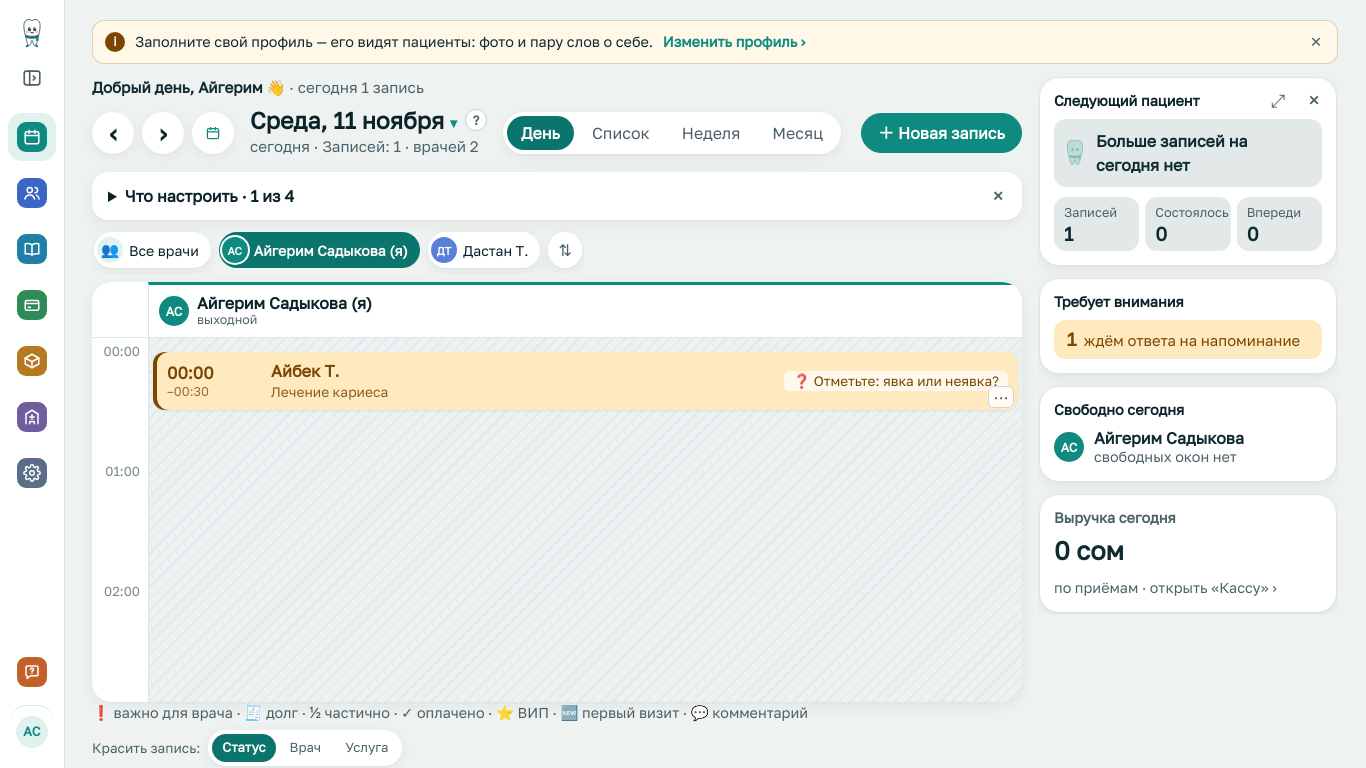
Scenario: «Приём состоялся» → «Что сделали сегодня?»: предвыбор по услуге и зубу приёма, отметка одним запросом
Step 1. Click the button "Айбек Т." → click(190, 373), box [153, 352, 1018, 410]
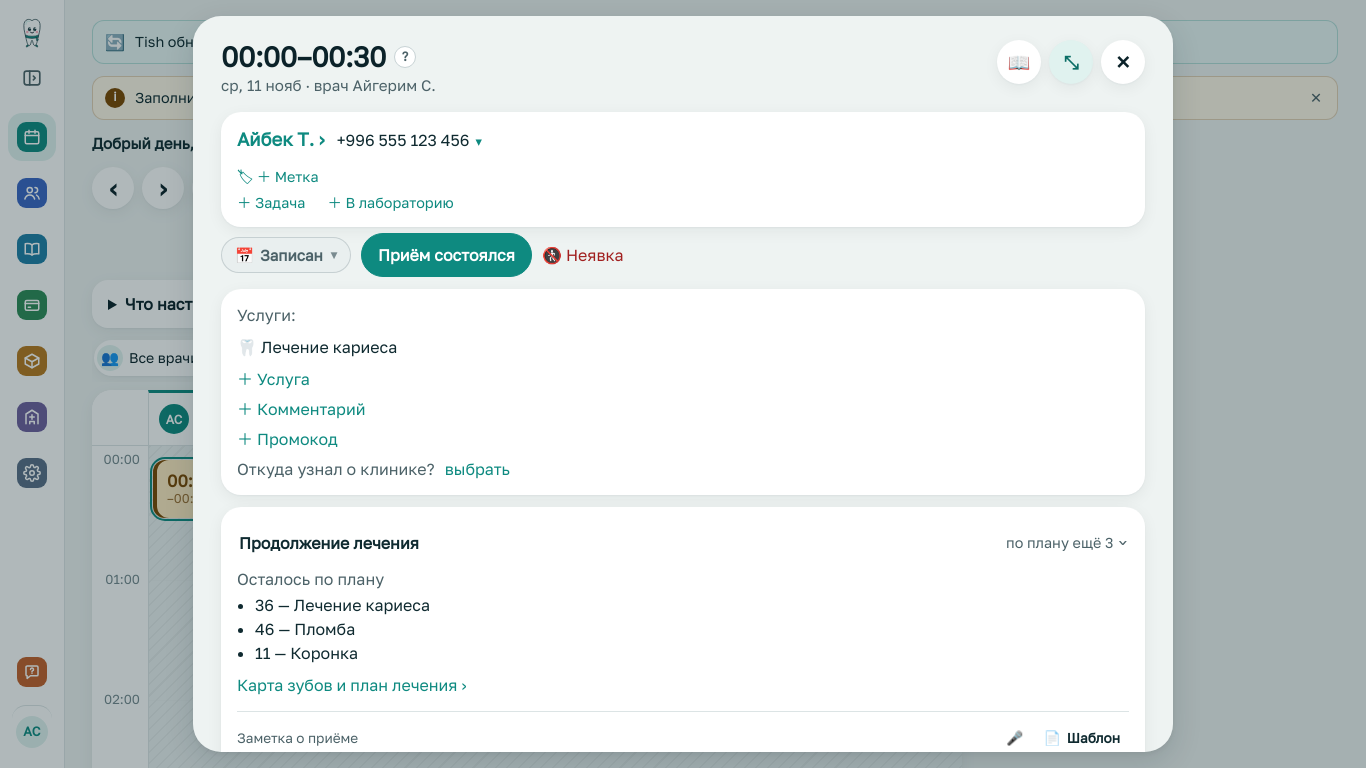
Check: the element "Что сделали сегодня?" is not shown
Step 2. Click the button "Приём состоялся" → click(446, 255), box [361, 233, 532, 277]
(page scrolled)
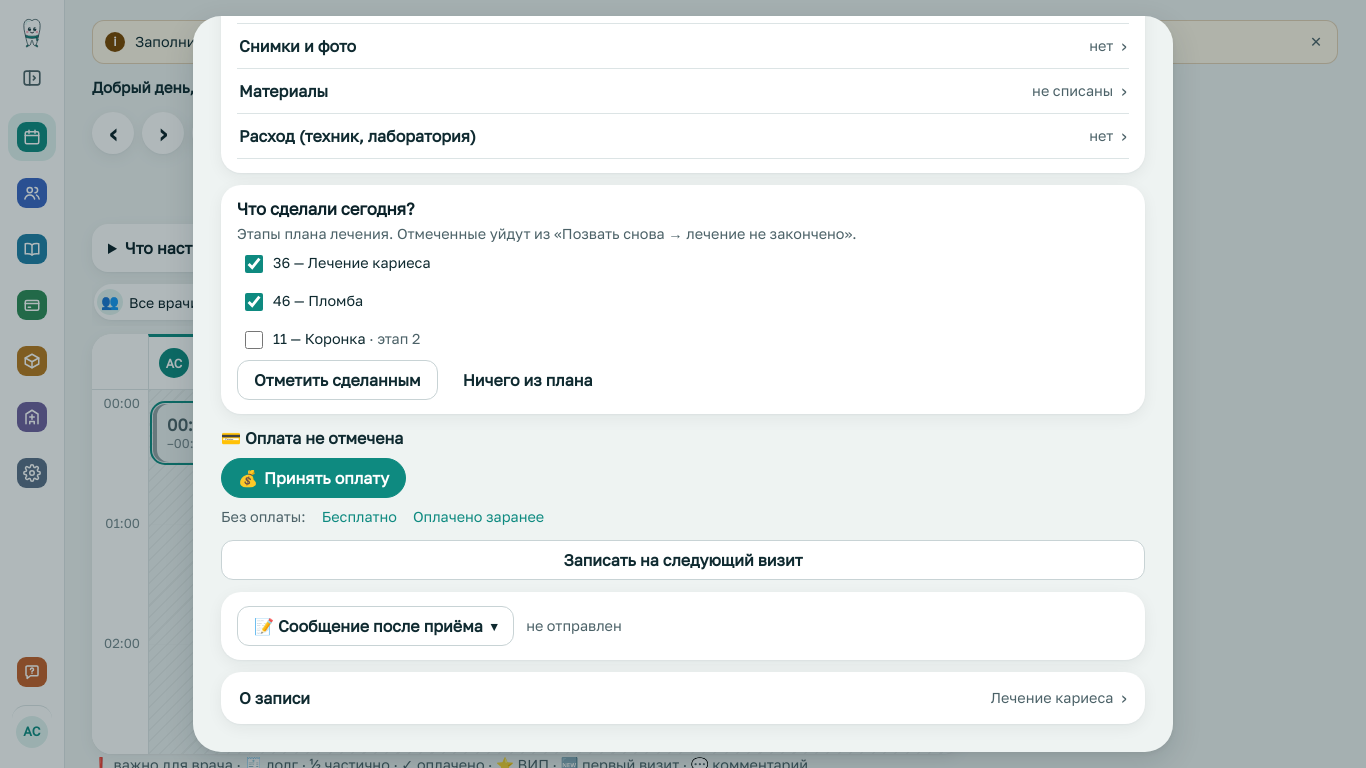
Check: the checkbox labelled "36 — Лечение кариеса" is checked, box [245, 256, 263, 274]
Check: the checkbox labelled "46 — Пломба" is checked, box [245, 294, 263, 312]
Check: the checkbox labelled "11 — Коронка · этап 2" is not checked
Step 3. Click the checkbox labelled "11 — Коронка · этап 2" → click(254, 340), box [245, 332, 263, 350]
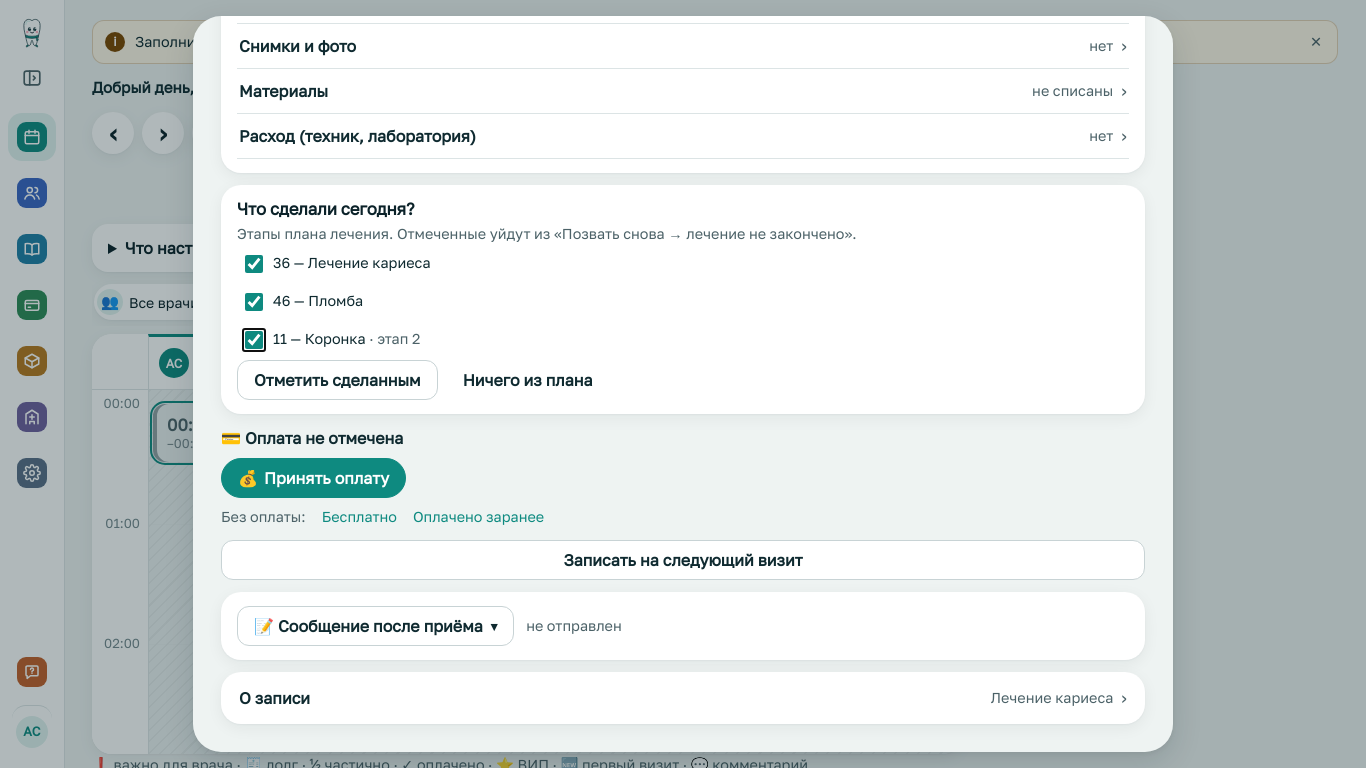
Step 4. Click the checkbox labelled "36 — Лечение кариеса" → click(254, 264), box [245, 256, 263, 274]
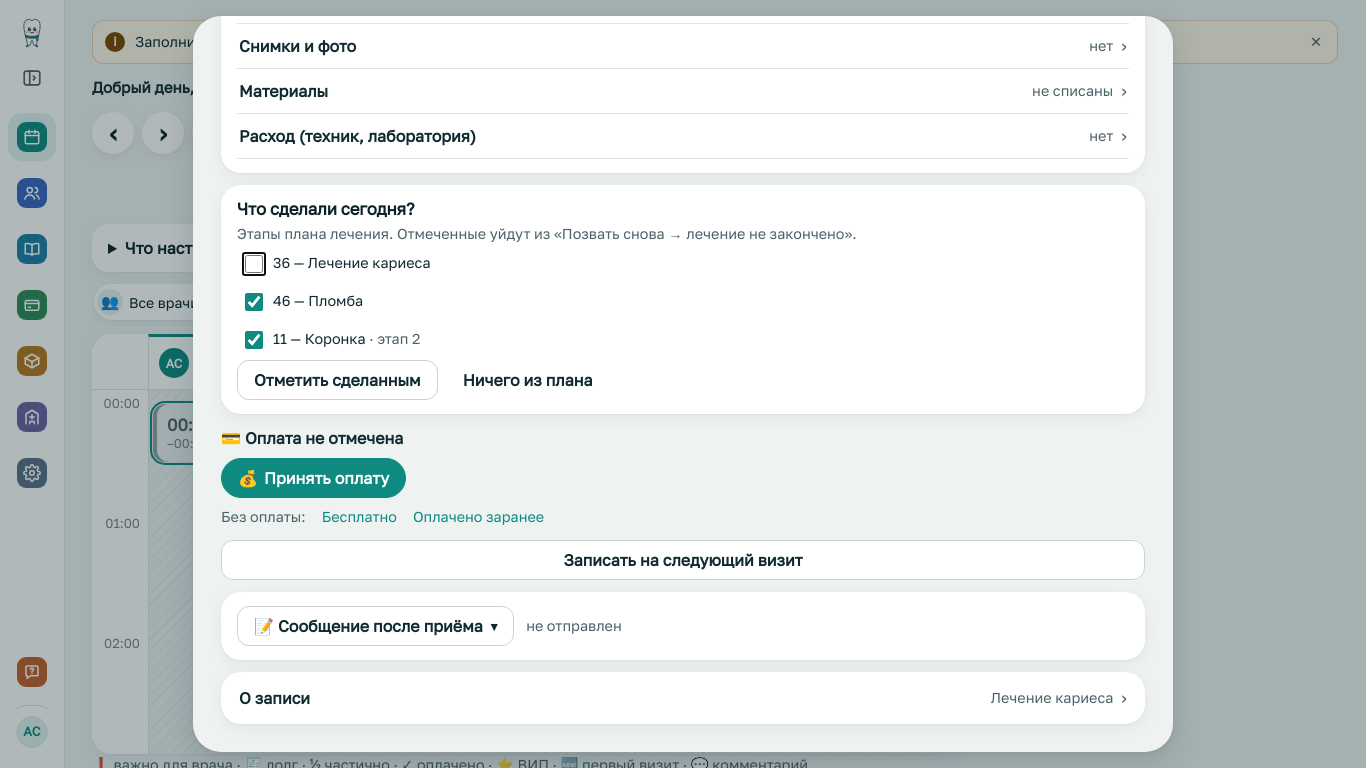
Step 5. Click the button "Отметить сделанным" → click(337, 380), box [237, 360, 438, 400]
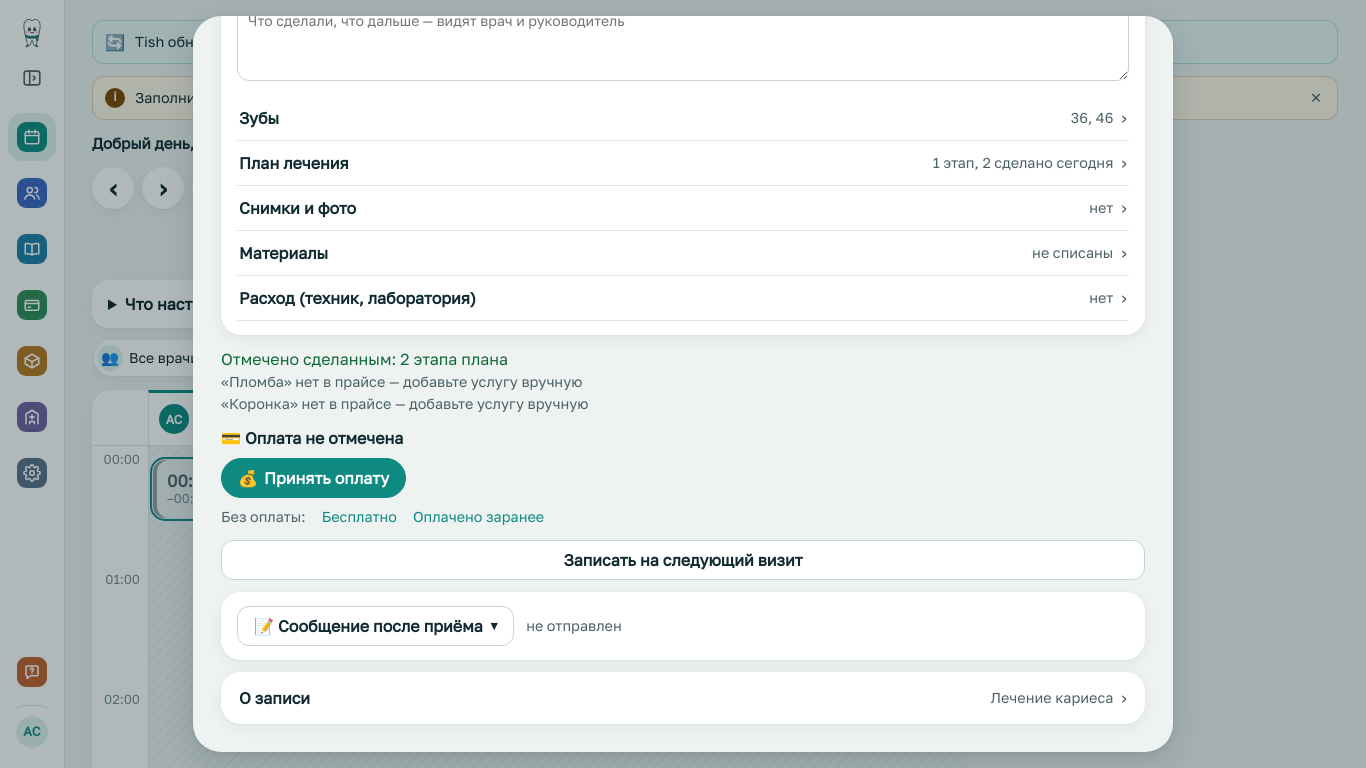
Check: the text "Отмечено сделанным: 2 этапа плана" is shown, box [221, 349, 508, 369]
Check: the heading "Что сделали сегодня?" is gone
